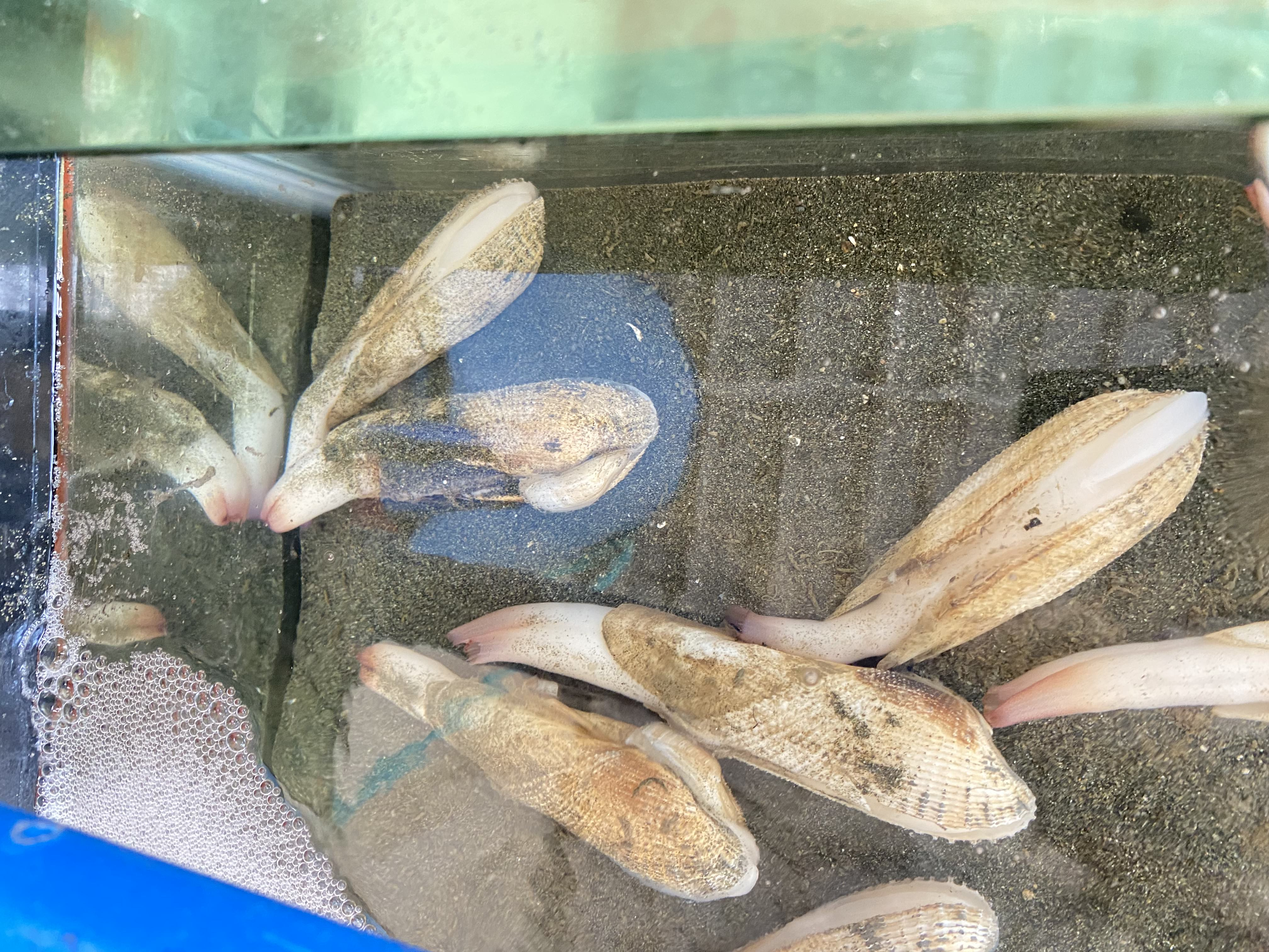Healthy: (448, 603, 1035, 840), (731, 390, 1206, 669), (358, 642, 759, 901), (263, 380, 657, 531), (984, 622, 1269, 727), (286, 335, 368, 469)
